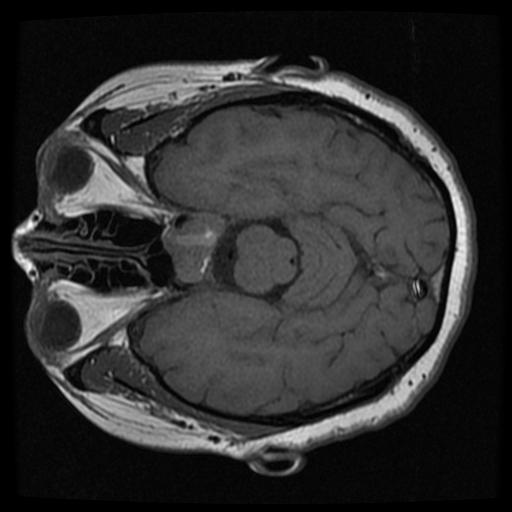pituitary tumour: (163, 213, 226, 283)
